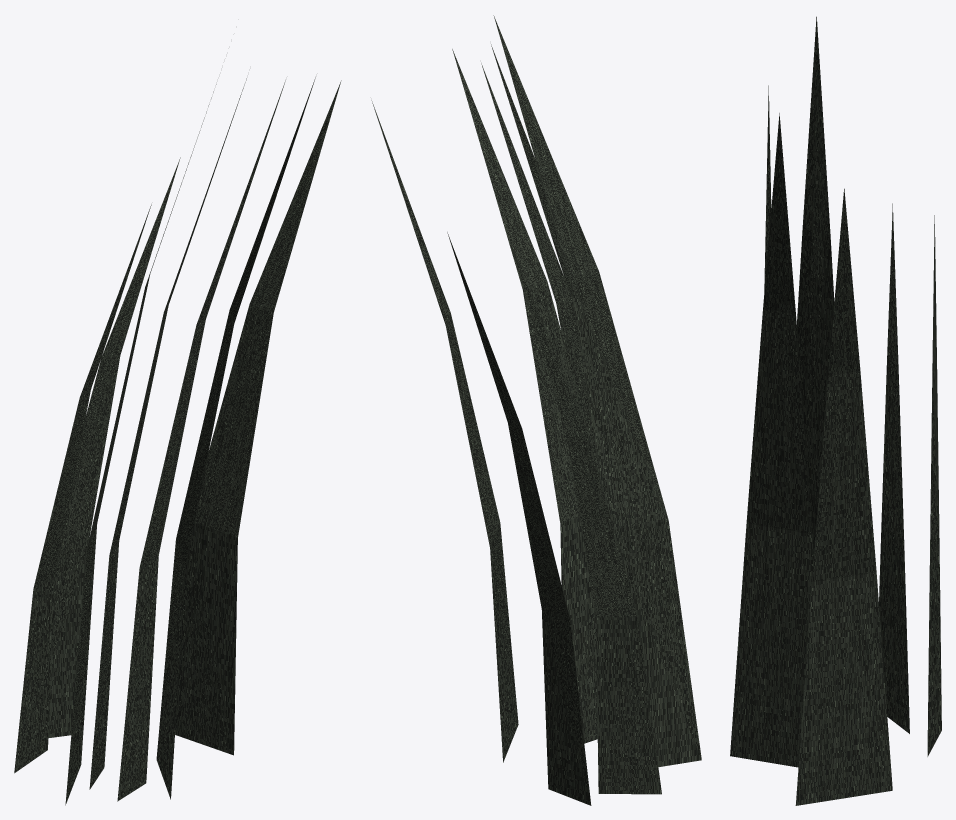
Rendered from grass_tuft.glb.
The picture shows the model from 3 angles, left to right: view 1: azimuth 30°, elevation 25°; view 2: azimuth 150°, elevation 25°; view 3: azimuth 270°, elevation 25°; orthographic projection. The views are drawn at different scales.
Visible parts, largest first — view 1: Wind_Grass_Tuft; view 2: Wind_Grass_Tuft; view 3: Wind_Grass_Tuft.
Part boxes in pixels (bbox=[...]): Wind_Grass_Tuft: bbox=[14, 77, 341, 805]; Wind_Grass_Tuft: bbox=[371, 15, 701, 805]; Wind_Grass_Tuft: bbox=[730, 16, 941, 805].
Size of the model in its own units: 0.3541 by 0.7891 by 0.1893.
Materials: 1 (1 with a texture image).
